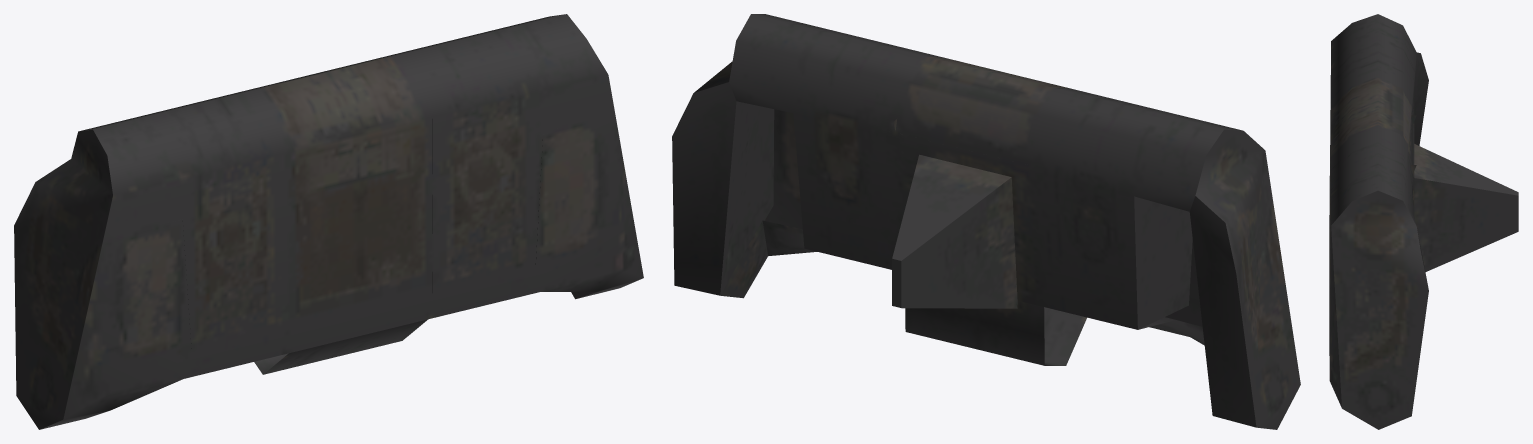
3 views of the same model, side by side, from view 1: azimuth 30°, elevation 25°; view 2: azimuth 150°, elevation 25°; view 3: azimuth 270°, elevation 25° (orthographic). The views are drawn at different scales.
Visible parts, largest first — view 1: set_0_group_0; view 2: set_0_group_0; view 3: set_0_group_0.
Part boxes in pixels (x1=…): set_0_group_0: x1=14, y1=14, x2=643, y2=429; set_0_group_0: x1=672, y1=14, x2=1300, y2=429; set_0_group_0: x1=1329, y1=14, x2=1518, y2=429.
Size of the model in its own units: 0.2671 by 0.1259 by 0.0983.
Materials: 1 (1 with a texture image).
